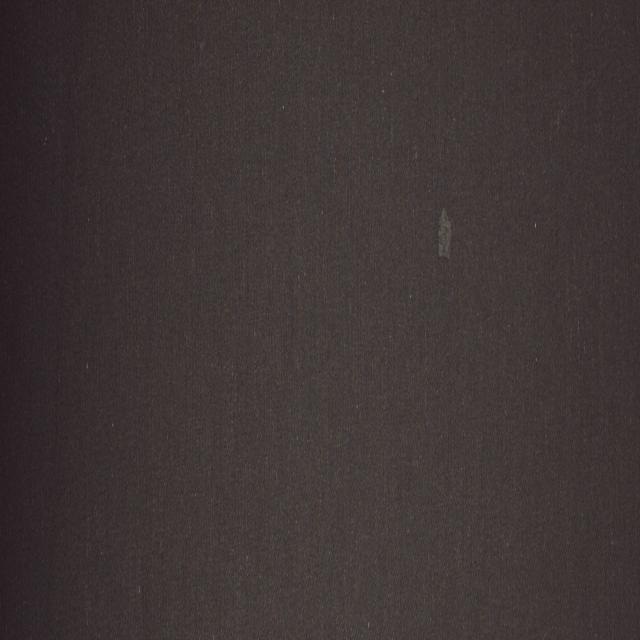Stain: (434, 208, 453, 258)
